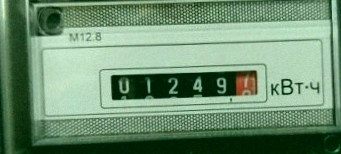0: (117, 74, 131, 94)
1: (142, 75, 153, 94)
2: (166, 75, 180, 95)
4: (191, 74, 203, 93)
7: (239, 70, 252, 89)
9: (214, 74, 228, 95)
screen: (91, 61, 267, 108)
